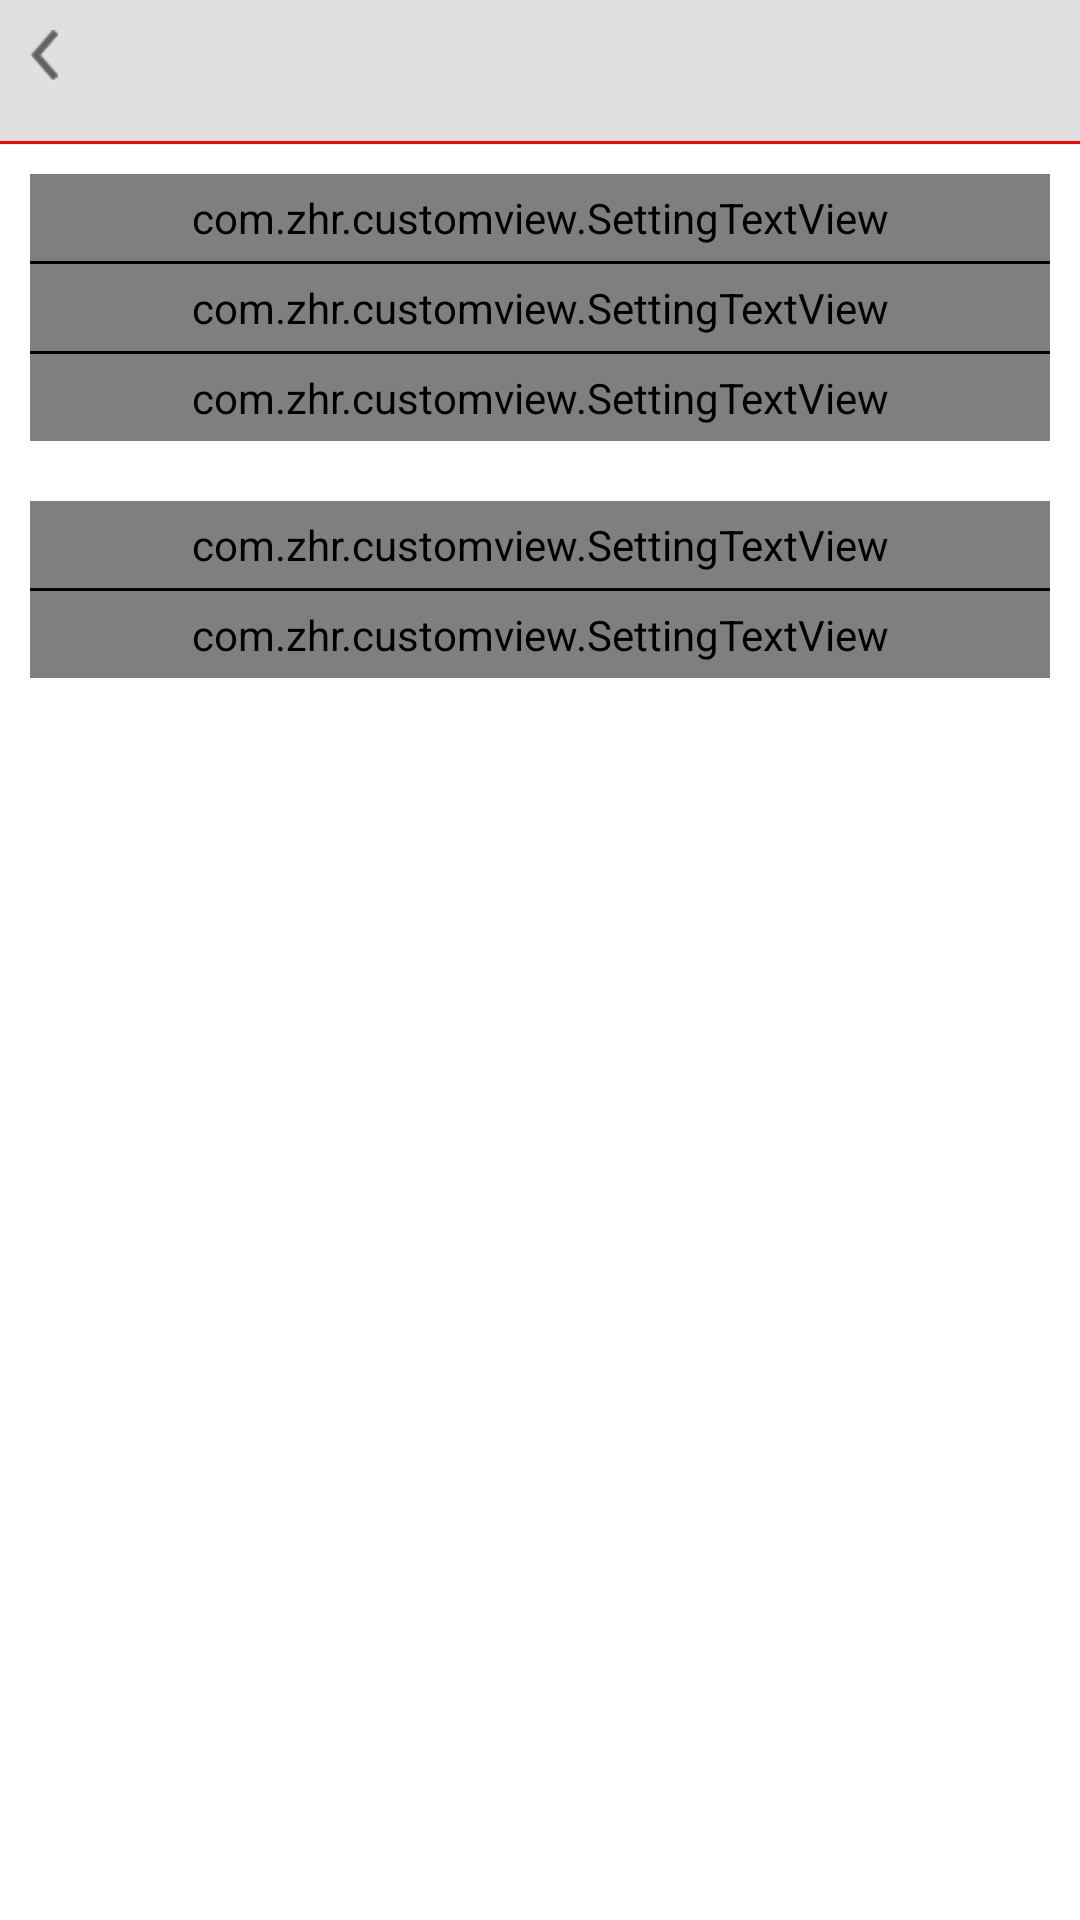

Where icons sit on this 1080×1920 app screen, as bbox=[x1, y1, x2, y2]:
back: bbox=[31, 30, 58, 80]
